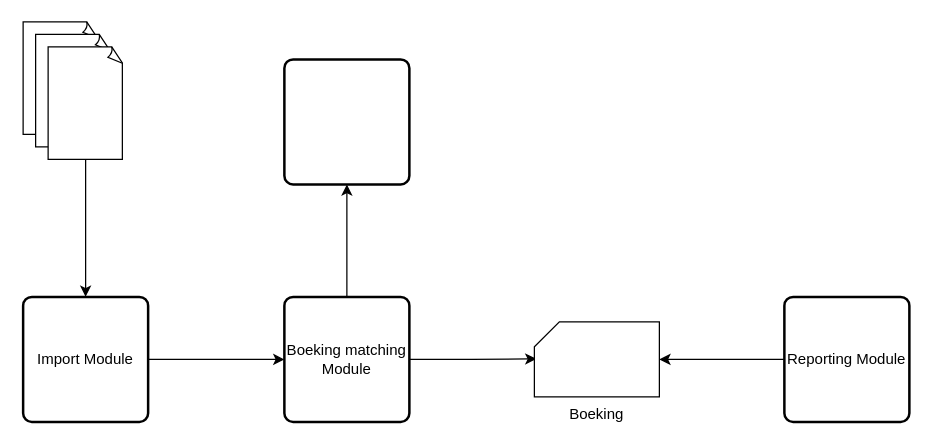
The diagram is 931 pixels wide and 445 high, and some of its shapes have lost their labels. Each missing label, with the centre of its shape:
"CSV files" goes at pixel 85 102.
"Validator" goes at pixel 346 121.
